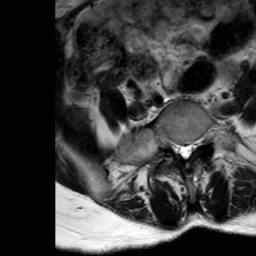CCS_severe_stenosis: (181, 132, 188, 168)
LFS_stenosis: (196, 126, 205, 152)
LLS_stenosis: (188, 131, 196, 161)
RFS_normal: (166, 128, 174, 156)
RLS_normal: (174, 131, 181, 161)
